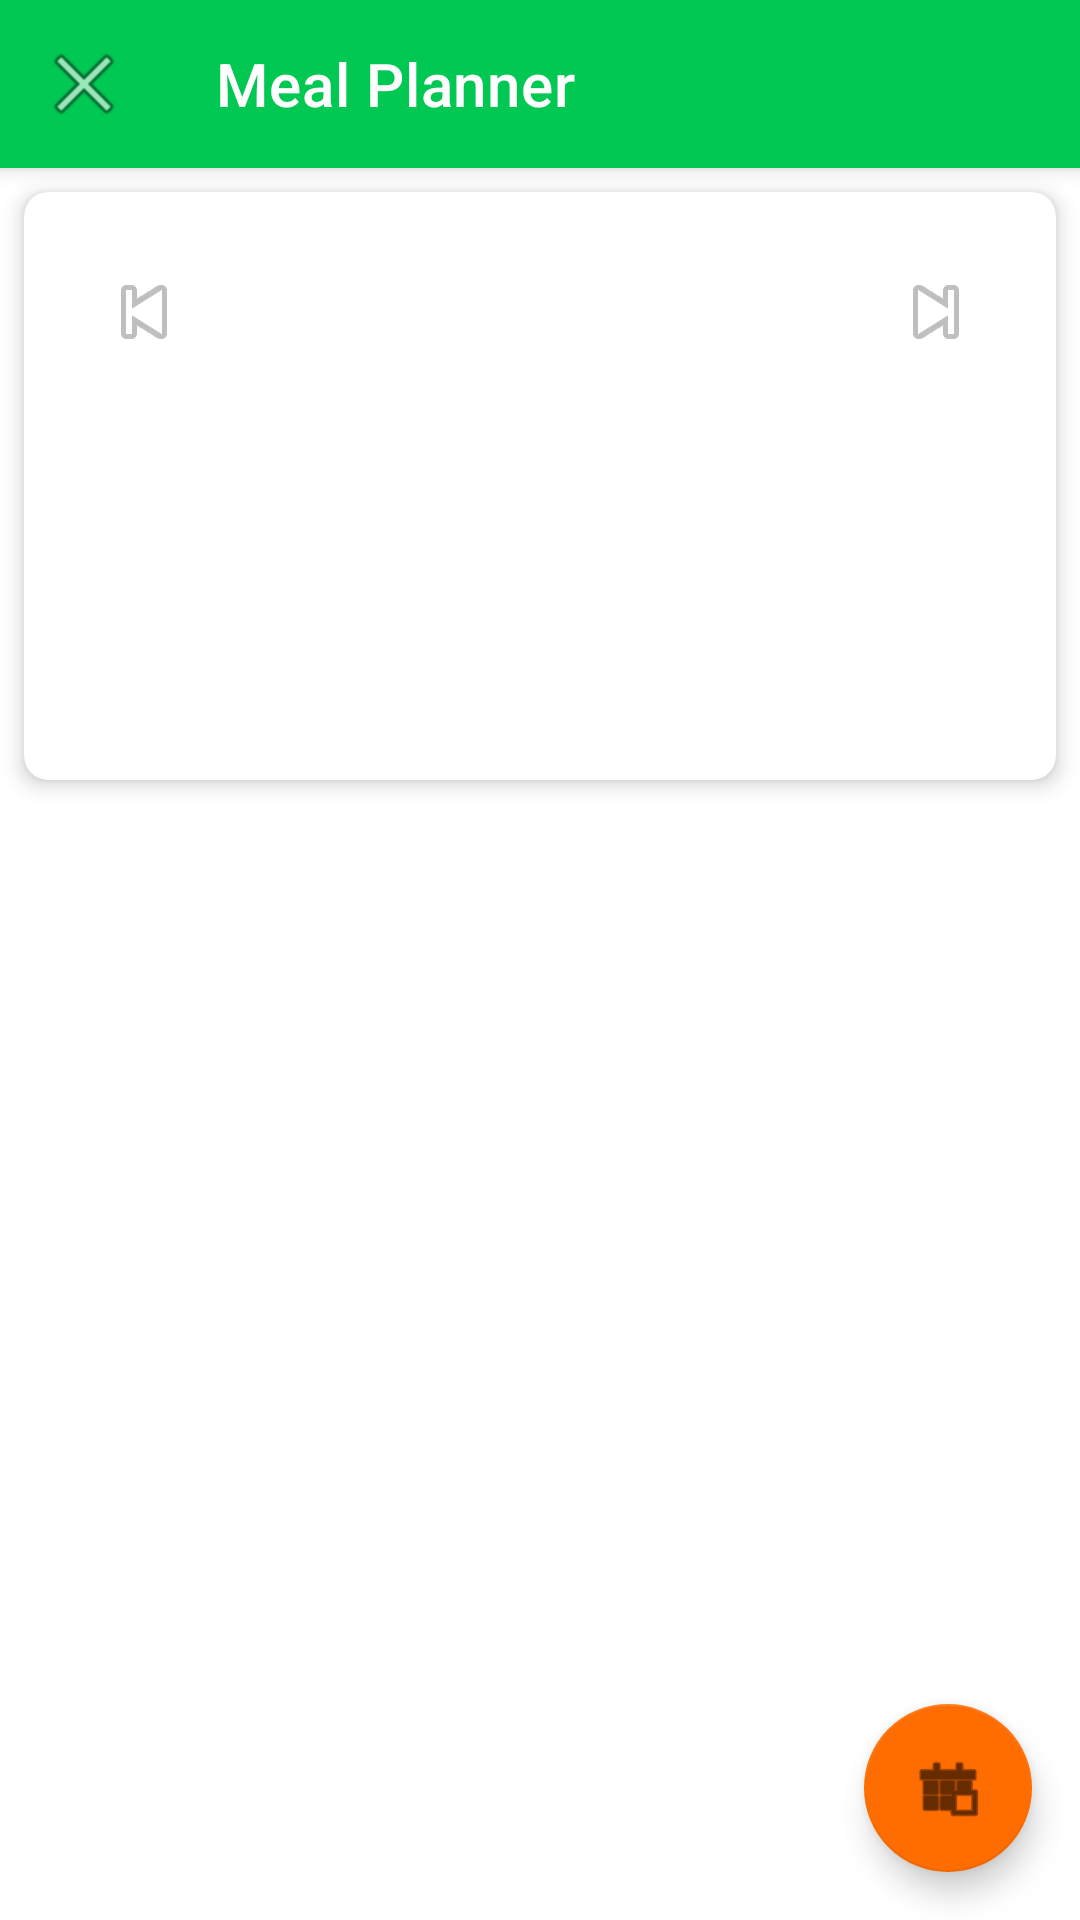

Icons on this 1080 x 1920 Android screen, each with the point to tap as (x,y):
Next Week: (936,312)
Previous Week: (144,312)
today: (948,1788)
